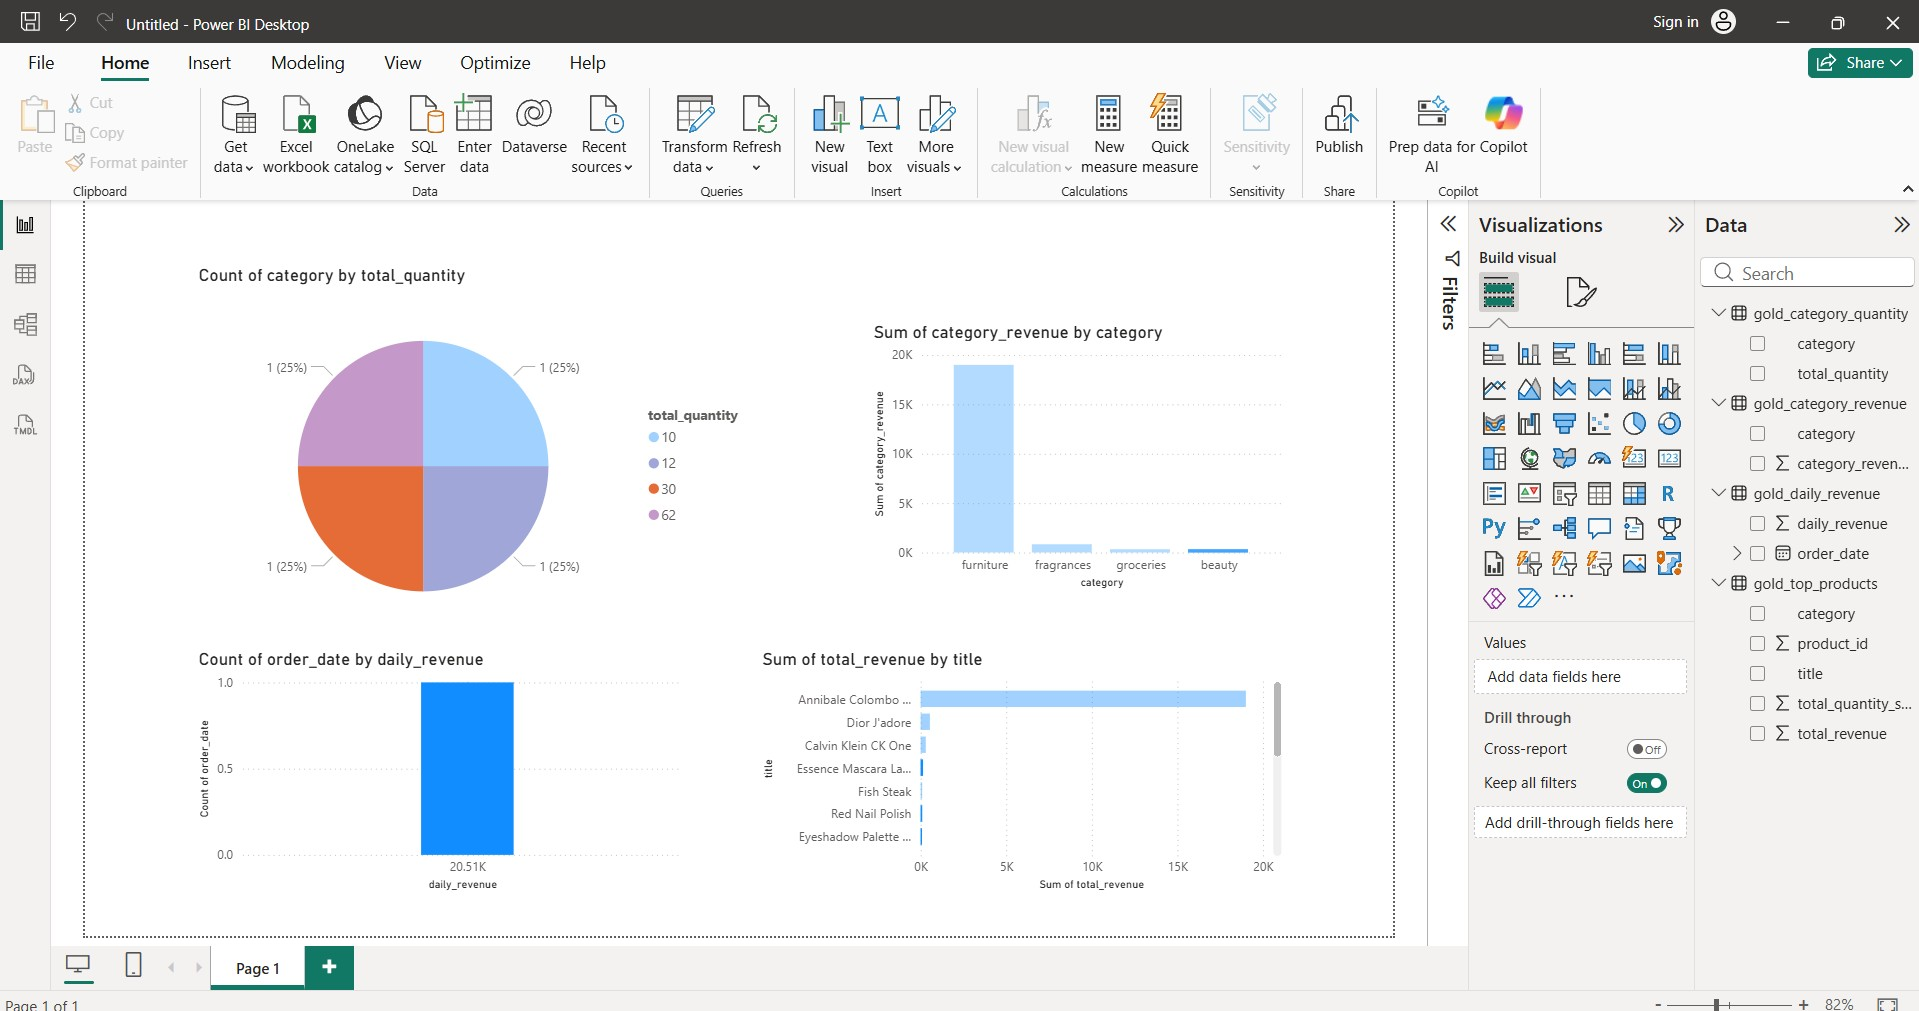

The page's visual inventory and layout, read from the dashboard file:
{"tool":"powerbi","page":{"name":"Page 1","canvas":[1280,720],"ordinal":0},"visuals":[{"type":"pieChart","fields":{"Category":["gold_category_quantity.total_quantity"],"Y":["CountNonNull(gold_category_quantity.category)"]},"box":[106,64.1,552.2,374.7],"z":1},{"type":"clusteredColumnChart","fields":{"Category":["gold_category_revenue.category"],"Y":["Sum(gold_category_revenue.category_revenue)"]},"box":[766.7,118.3,409.3,266.3],"z":2},{"type":"columnChart","fields":{"Category":["gold_daily_revenue.daily_revenue"],"Y":["CountNonNull(gold_daily_revenue.order_date)"]},"box":[106,438.8,483.2,241.6],"z":3},{"type":"clusteredBarChart","fields":{"Y":["Sum(gold_top_products.total_revenue)"],"Category":["gold_top_products.title"]},"box":[658.3,438.8,517.7,241.6],"z":4}]}

Visuals, with their boxes on the page's 1280x720 design canvas (x1, y1, x2, y2). These are canvas units, not pixel positions in the 1919x1011 screenshot, which may show the page scaled, cropped or inside an application window:
pieChart - gold_category_quantity.total_quantity x CountNonNull(gold_category_quantity.category): {"left": 106, "top": 64, "right": 658, "bottom": 439}
clusteredColumnChart - gold_category_revenue.category x Sum(gold_category_revenue.category_revenue): {"left": 767, "top": 118, "right": 1176, "bottom": 385}
columnChart - gold_daily_revenue.daily_revenue x CountNonNull(gold_daily_revenue.order_date): {"left": 106, "top": 439, "right": 589, "bottom": 680}
clusteredBarChart - Sum(gold_top_products.total_revenue) x gold_top_products.title: {"left": 658, "top": 439, "right": 1176, "bottom": 680}
